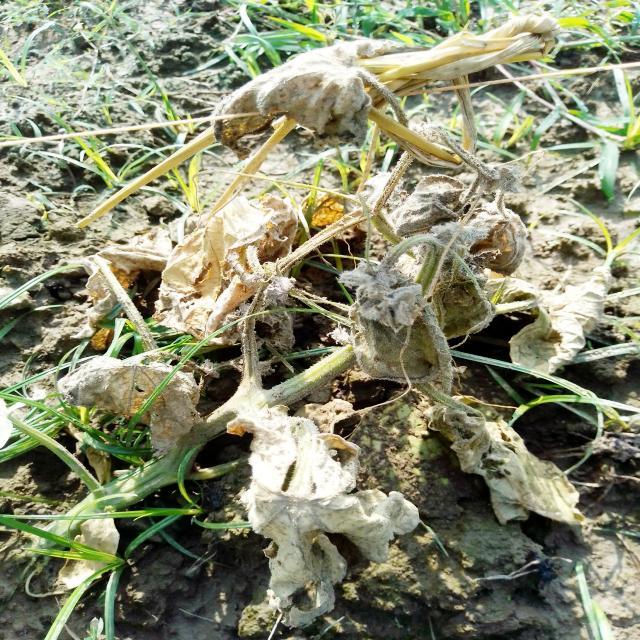Bacterial-Wilt: (222, 402, 419, 627), (218, 30, 410, 152), (424, 393, 590, 530), (60, 355, 210, 452), (489, 260, 614, 371)
